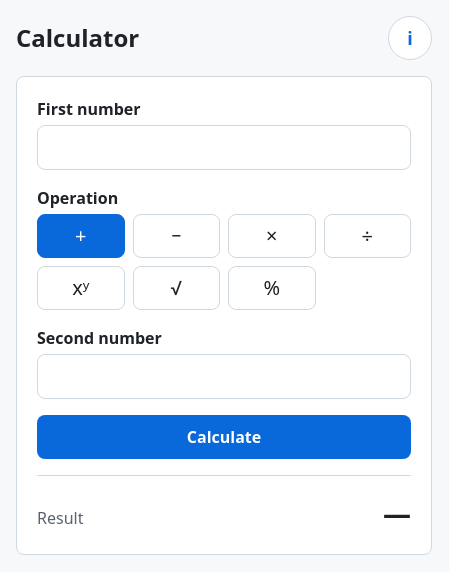
Scenario: Calculator › sends both numbers for Power
Type "2" into the field labelled "First number" at {"x": 224, "y": 148}, box [37,125,411,170]
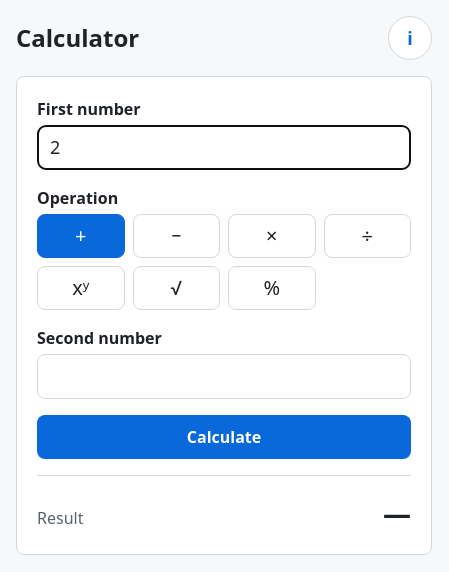
Click the radio button named "Power" at {"x": 81, "y": 288}, box [37,266,124,310]
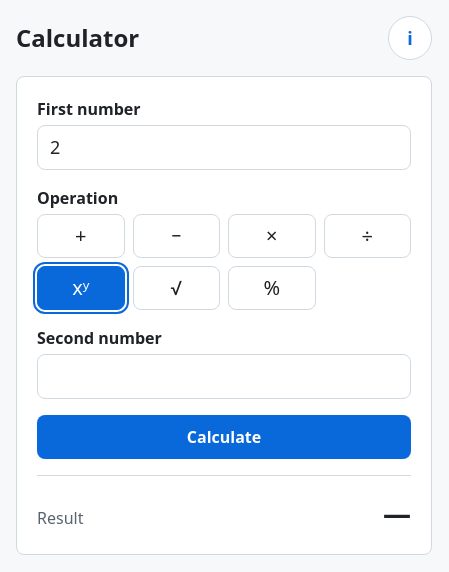
Type "10" into the field labelled "Second number" at {"x": 224, "y": 376}, box [37,354,411,399]
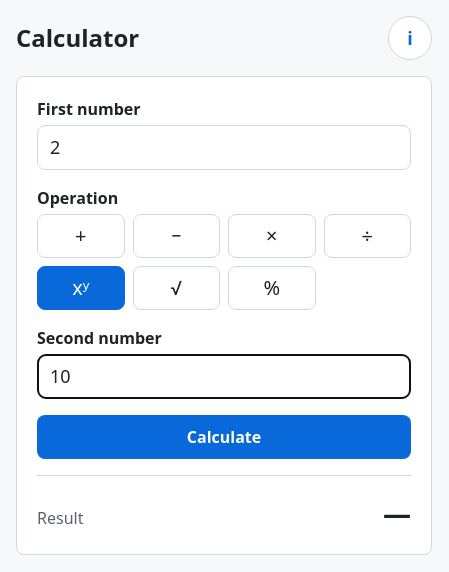
Click the button "Calculate" at {"x": 224, "y": 437}, box [37,415,411,459]
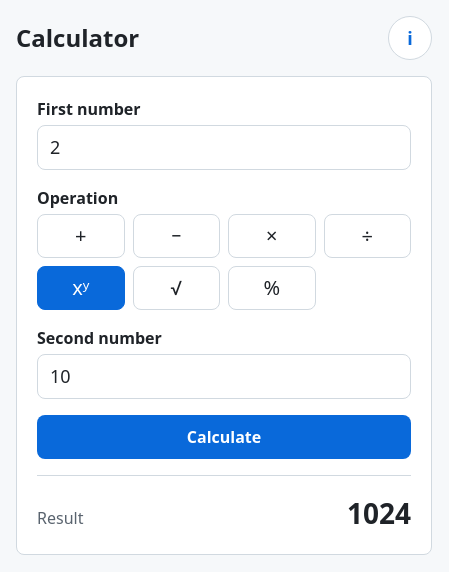
Result: the text "1024" is shown at [347,492,411,534]
